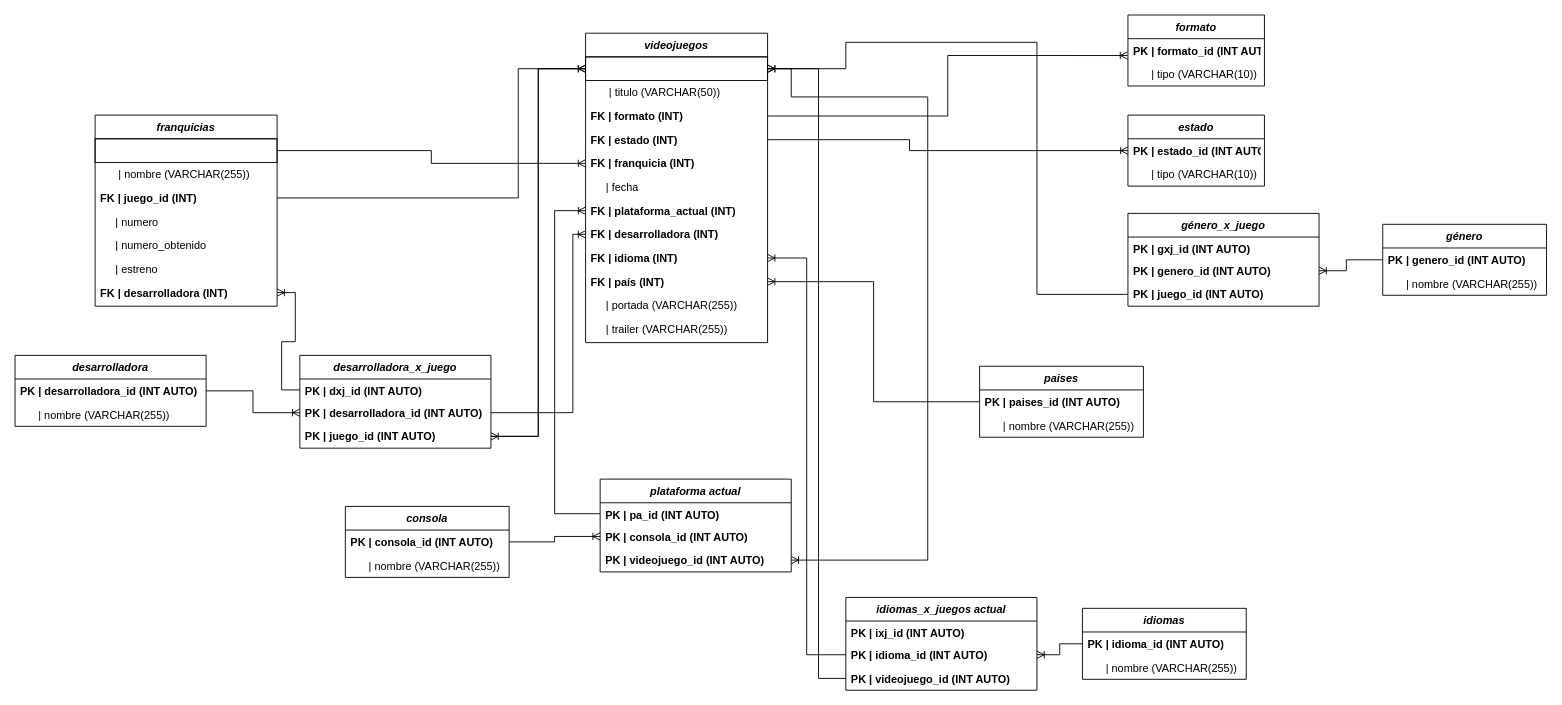
Image size: 1562x705. Some labels were removed from this diagram. The centre of each missing label's shape, as x and y in pixels:
"PK | franquicia_id (INT AUTO)" belongs at pixel 185 150.
"PK | videojuegos_id (INT AUTO)" belongs at pixel 676 68.
